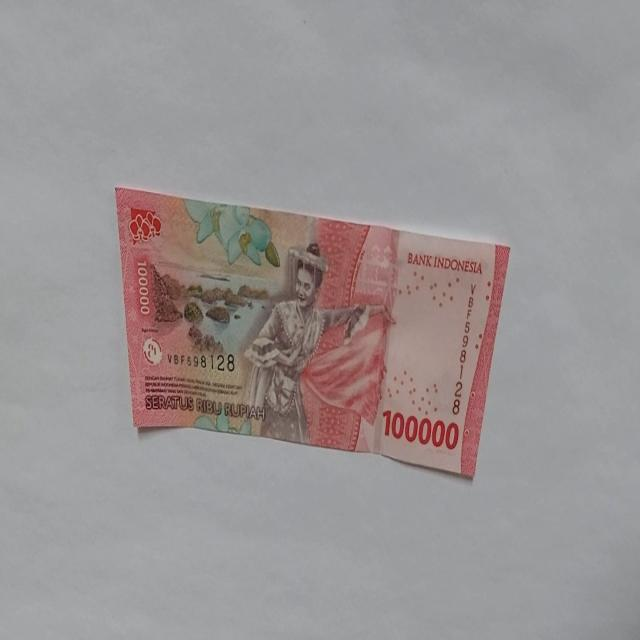seratus ribu rupiah: (113, 185, 510, 480)
